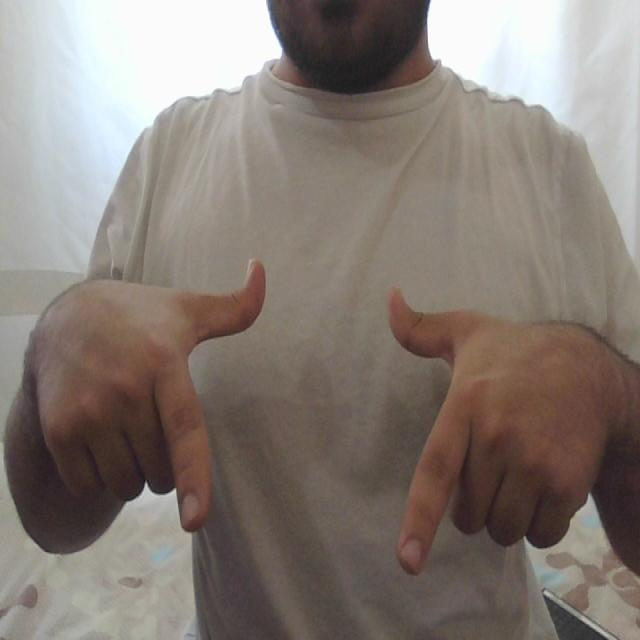Nerede: (158, 256, 484, 578)
